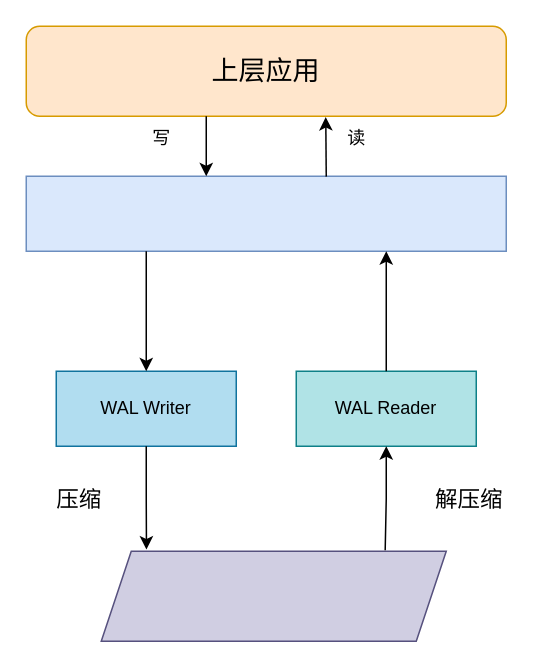
Some shapes in this 548 by 668 pixel diagram are drawn without their labels. Here are the shapes that lost their labels. From the top down, the centre of each, then its label:
(265,213): WAL Buffer
(273,595): WAL 文件
